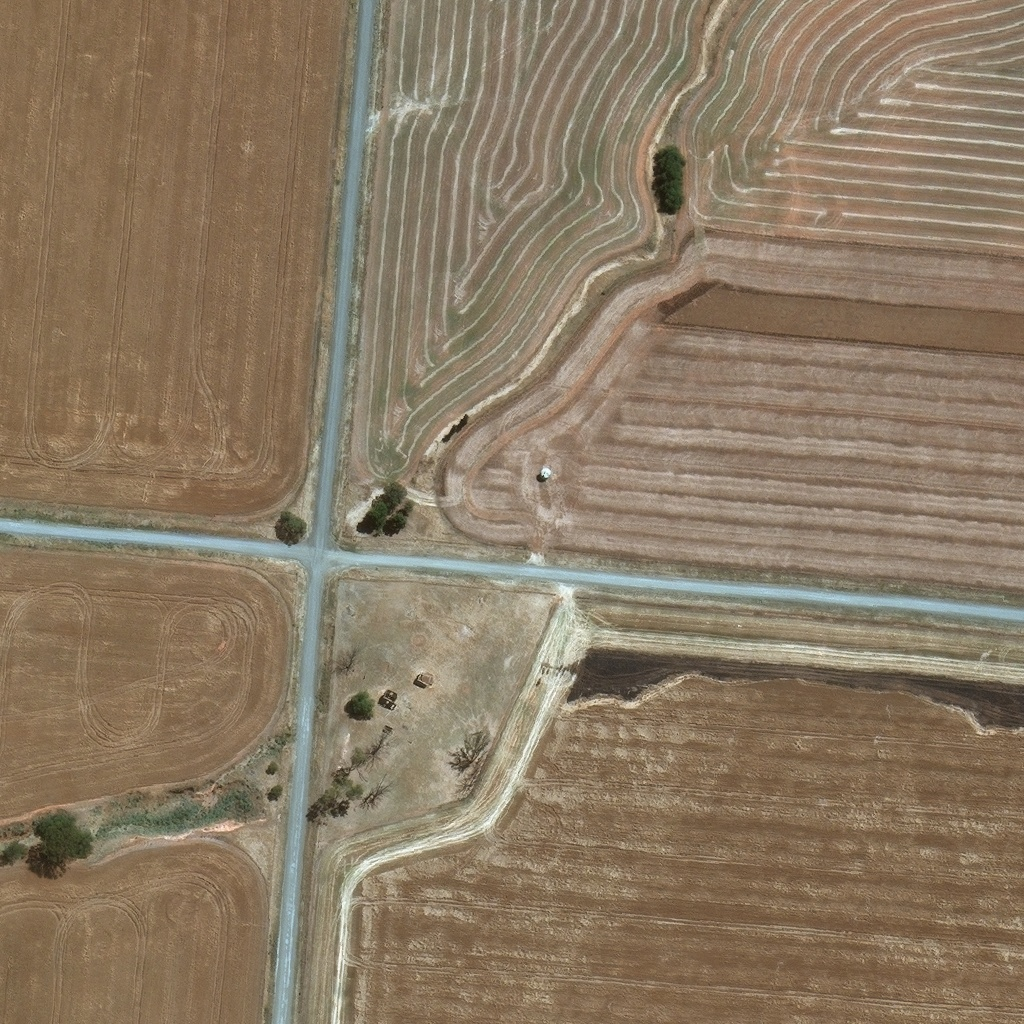0 no-damage: (378, 688, 397, 706), (412, 672, 430, 690)
